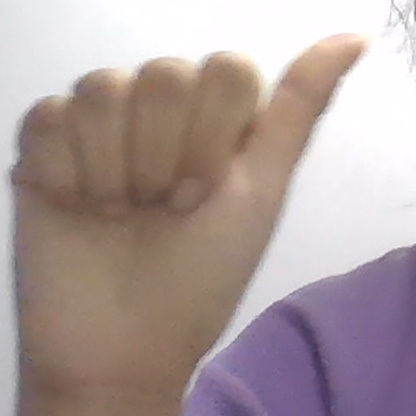A: (12, 34, 367, 383)
